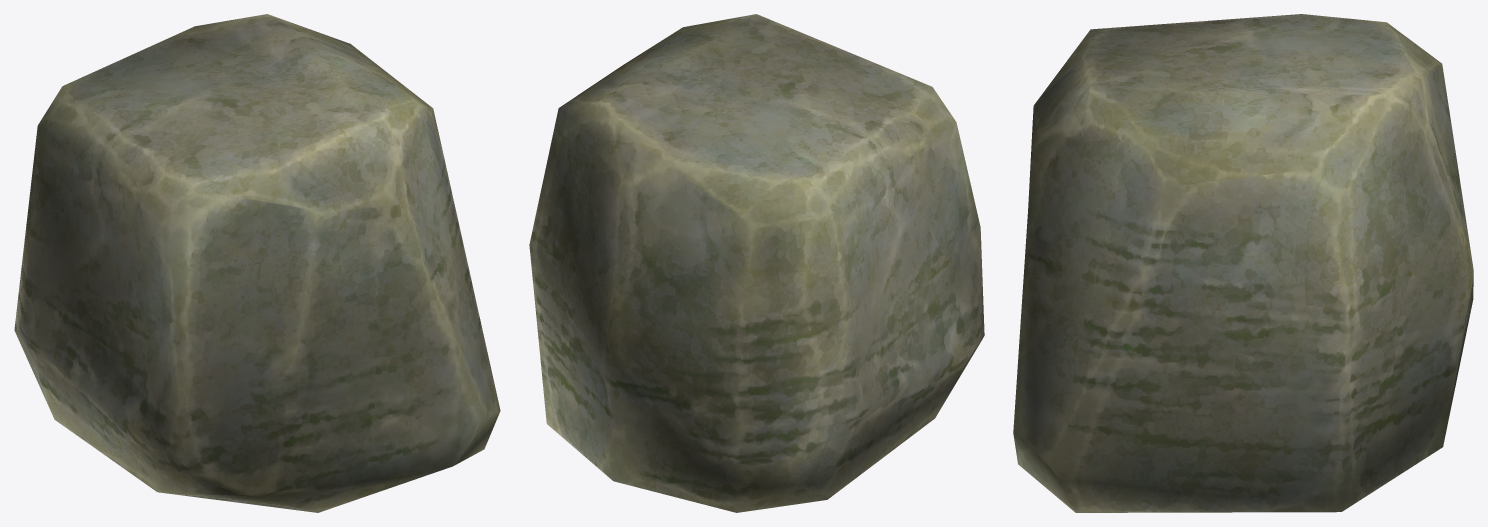
File: SM_Crystal_rock_3.fbx
3 views of the same model, side by side, from view 1: azimuth 30°, elevation 25°; view 2: azimuth 150°, elevation 25°; view 3: azimuth 270°, elevation 25° (orthographic). The views are drawn at different scales.
Parts seen in each view (by area): view 1: SM_Crystal_rock_3_LOD0; view 2: SM_Crystal_rock_3_LOD0; view 3: SM_Crystal_rock_3_LOD0.
Boxes of the visible parts, <box> form: SM_Crystal_rock_3_LOD0: <box>14,14,500,512</box>; SM_Crystal_rock_3_LOD0: <box>529,14,984,512</box>; SM_Crystal_rock_3_LOD0: <box>1013,14,1473,512</box>.
Size of the model in its own units: 62.9 by 69.61 by 68.69.
